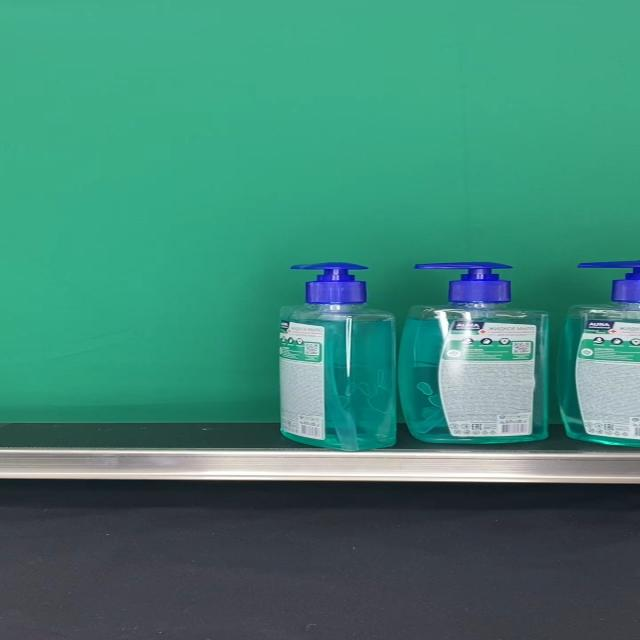Bottle: (398, 261, 548, 443), (278, 263, 396, 451)
Cap: (414, 262, 514, 303), (289, 263, 370, 305)
